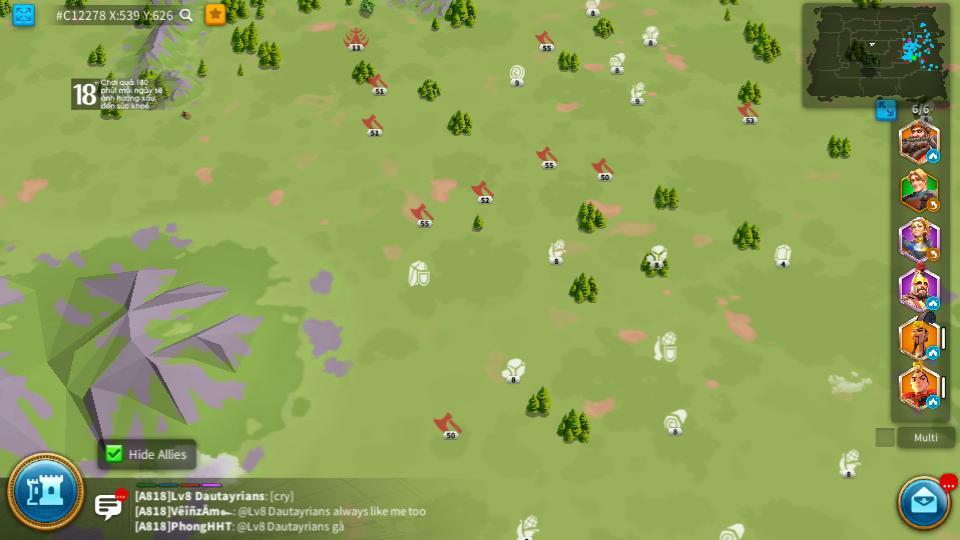gem-z-out: (773, 243, 794, 265)
march_idle: (926, 396, 941, 407), (926, 151, 940, 162), (927, 348, 940, 359), (926, 297, 940, 307)
march_returning: (926, 248, 941, 261), (927, 201, 940, 212)
